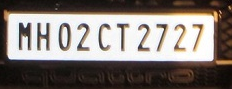0: (58, 21, 72, 52)
2: (136, 22, 154, 52), (76, 21, 91, 52), (173, 23, 188, 52)
7: (154, 22, 169, 52), (191, 22, 204, 52)
C: (98, 23, 112, 51)
H: (35, 22, 51, 51)
M: (18, 20, 33, 52)
T: (116, 22, 130, 52)
